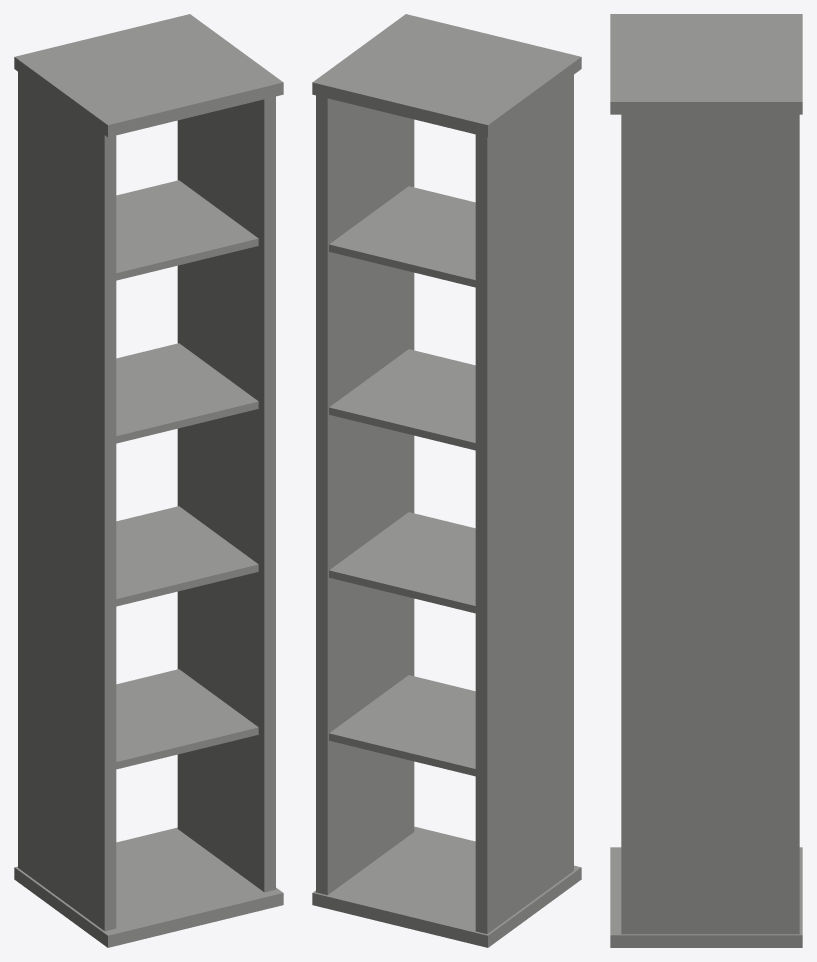
The model's file is Shelf_1.glb.
3 renders of one model, left to right at view 1: azimuth 30°, elevation 25°; view 2: azimuth 150°, elevation 25°; view 3: azimuth 270°, elevation 25°, orthographic. The views are drawn at different scales.
Visible parts, largest first — view 1: Shelf_1; view 2: Shelf_1; view 3: Shelf_1.
Part boxes in pixels (x1,y1,x2,y2): Shelf_1: (14, 14, 283, 947); Shelf_1: (312, 14, 581, 947); Shelf_1: (610, 14, 802, 947).
Size of the model in its own units: 0.3459 by 1.55 by 0.3189.
Materials: 1 (1 with a texture image).
